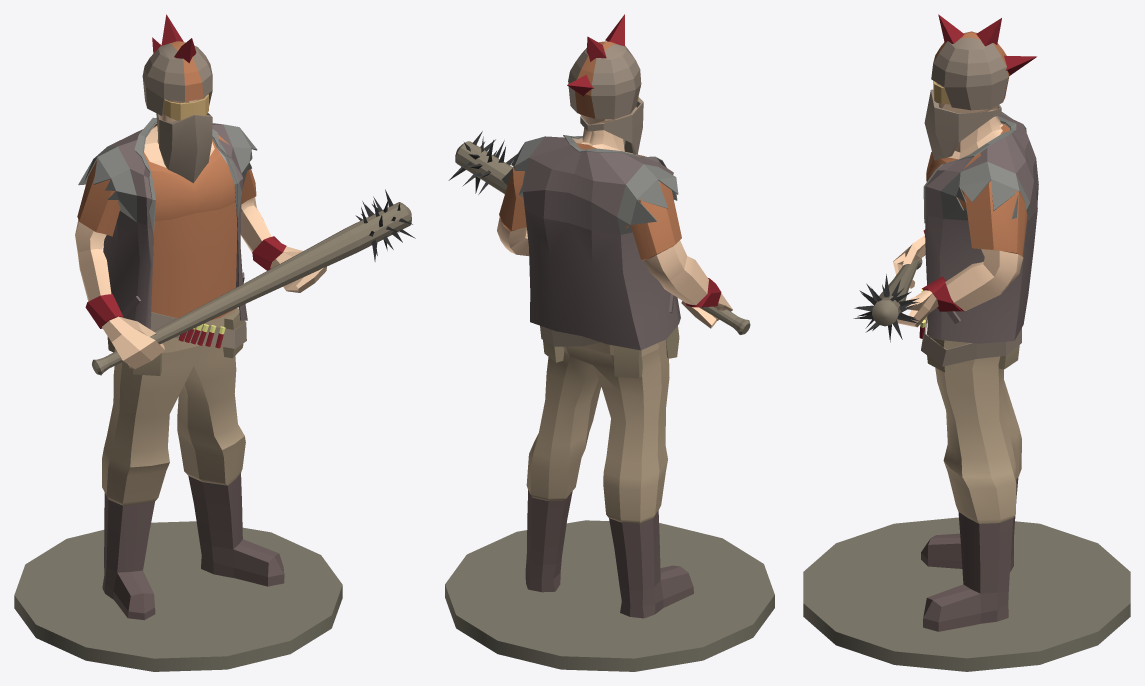
The model's file is enemy_def.fbx.
3 views of the same model, side by side, from view 1: azimuth 30°, elevation 25°; view 2: azimuth 150°, elevation 25°; view 3: azimuth 270°, elevation 25° (orthographic).
Parts seen in each view (by area): view 1: enemy_def; view 2: enemy_def; view 3: enemy_def.
Part boxes in pixels (x1,y1,x2,y2): enemy_def: [14, 14, 415, 671]; enemy_def: [445, 14, 774, 671]; enemy_def: [803, 14, 1130, 671].
Bounding box in the file's own units: 1040 × 1707 × 862.
